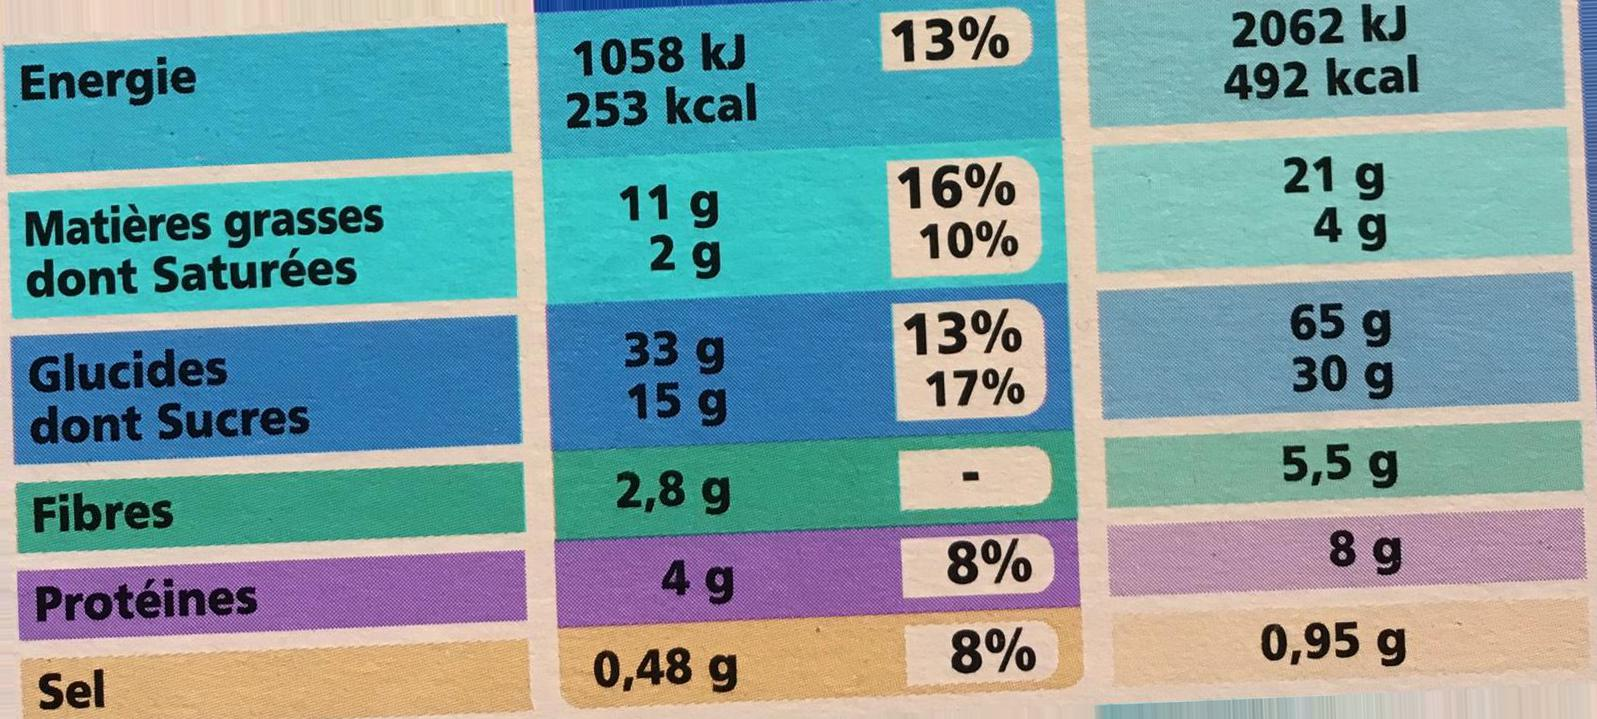column: (6, 11, 386, 708), (566, 27, 762, 696), (1220, 6, 1418, 664), (882, 10, 1051, 684)
line: (21, 152, 1388, 301), (18, 4, 1420, 146), (19, 305, 1396, 439), (33, 447, 1406, 533), (37, 637, 1413, 711), (33, 548, 1405, 619)
table: (4, 4, 1597, 719)
